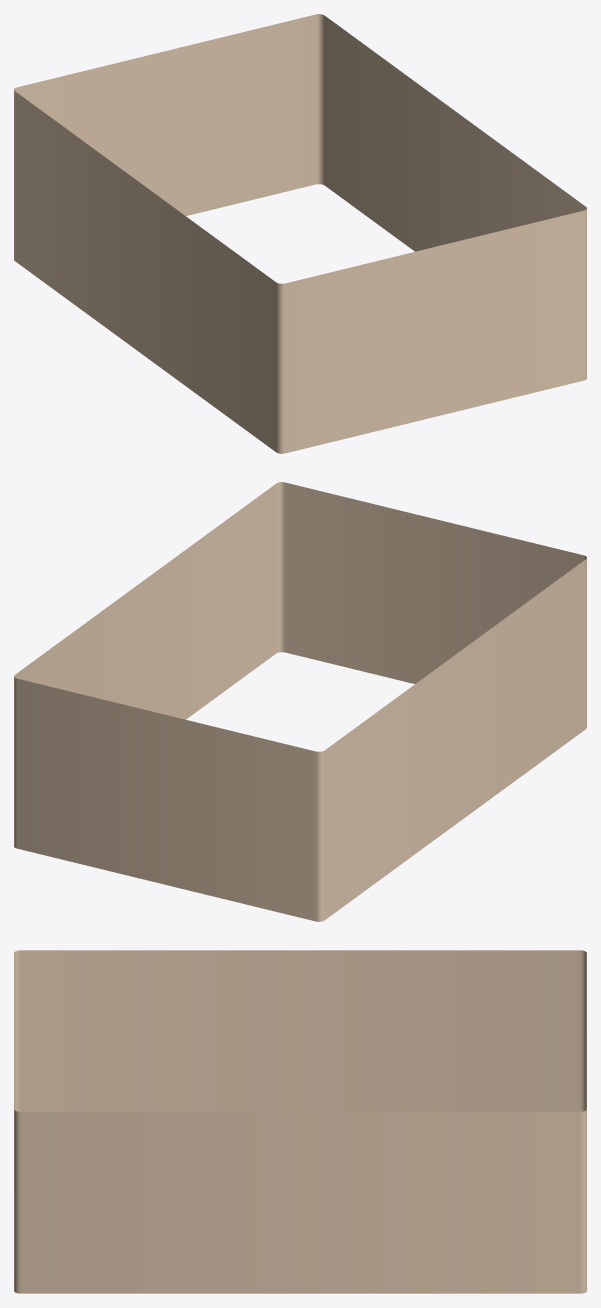
File: BlockBig.fbx
The picture shows the model from 3 angles, top to bottom: view 1: azimuth 30°, elevation 25°; view 2: azimuth 150°, elevation 25°; view 3: azimuth 270°, elevation 25°; orthographic projection. The views are drawn at different scales.
Parts seen in each view (by area): view 1: BlockBig; view 2: BlockBig; view 3: BlockBig.
Part boxes in pixels (box(x1,y1,x2,y2)): BlockBig: box(14, 14, 586, 453); BlockBig: box(14, 482, 586, 921); BlockBig: box(14, 950, 586, 1293).
Bounding box in the file's own units: 724 × 380 × 1084.
